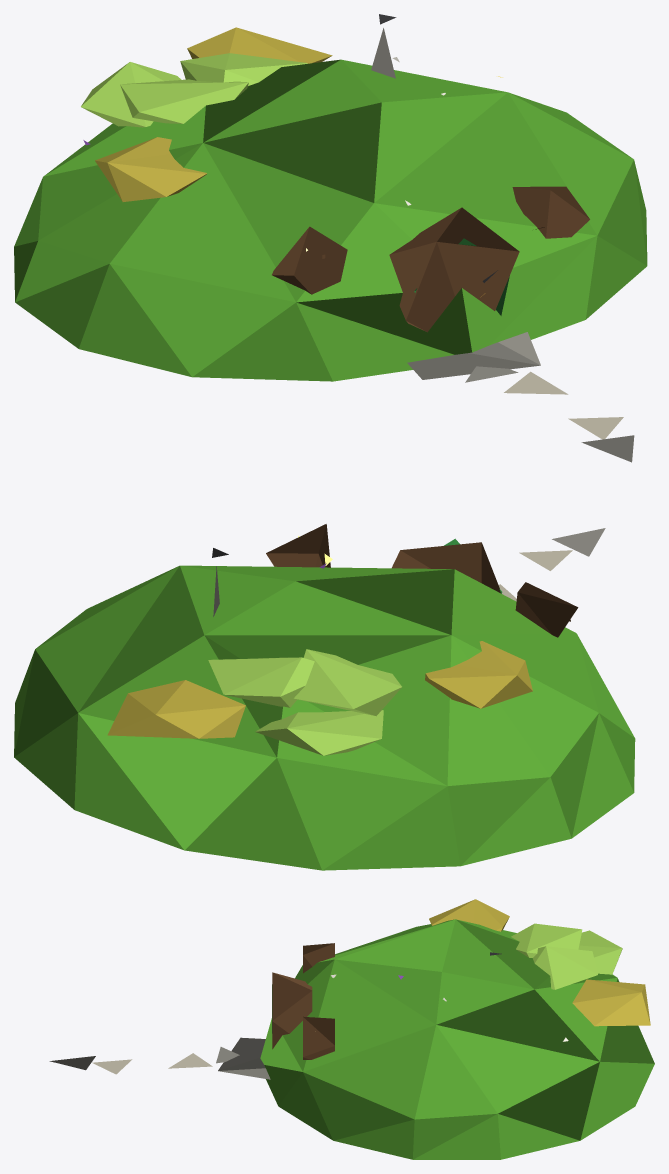
File: hobbit_hole_1_lod2.glb
3 views of the same model, one above another, from view 1: azimuth 30°, elevation 25°; view 2: azimuth 150°, elevation 25°; view 3: azimuth 270°, elevation 25° (orthographic). The views are drawn at different scales.
Visible parts, largest first — view 1: hobbit_hole_1_lod2; view 2: hobbit_hole_1_lod2; view 3: hobbit_hole_1_lod2.
Part boxes in pixels (box(x1,y1,x2,y2)): hobbit_hole_1_lod2: box(14, 14, 647, 462); hobbit_hole_1_lod2: box(14, 524, 635, 870); hobbit_hole_1_lod2: box(49, 899, 654, 1159).
Size of the model in its own units: 11.31 by 3.94 by 15.95.
